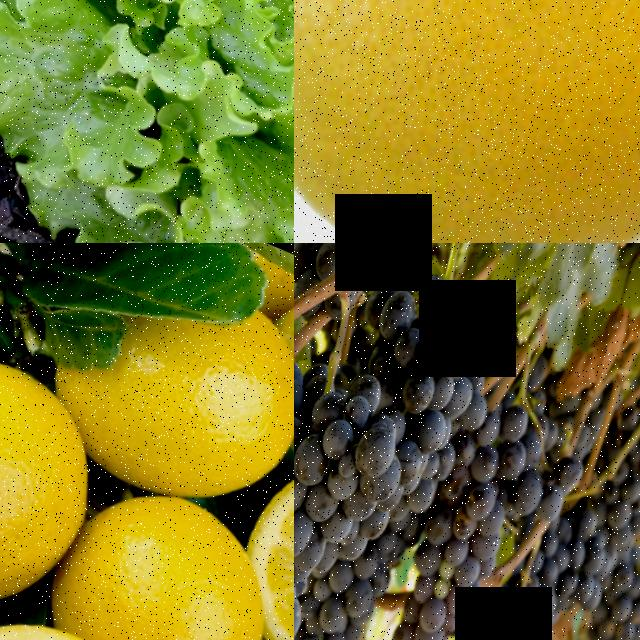grapes: (360, 392, 568, 640), (294, 338, 441, 640), (506, 405, 640, 640), (347, 290, 502, 441), (561, 536, 640, 640), (294, 243, 434, 280)
lemon: (294, 0, 640, 243), (75, 298, 294, 531), (22, 460, 294, 640), (0, 314, 120, 640), (239, 445, 294, 640)
lettuce: (0, 0, 294, 243)
